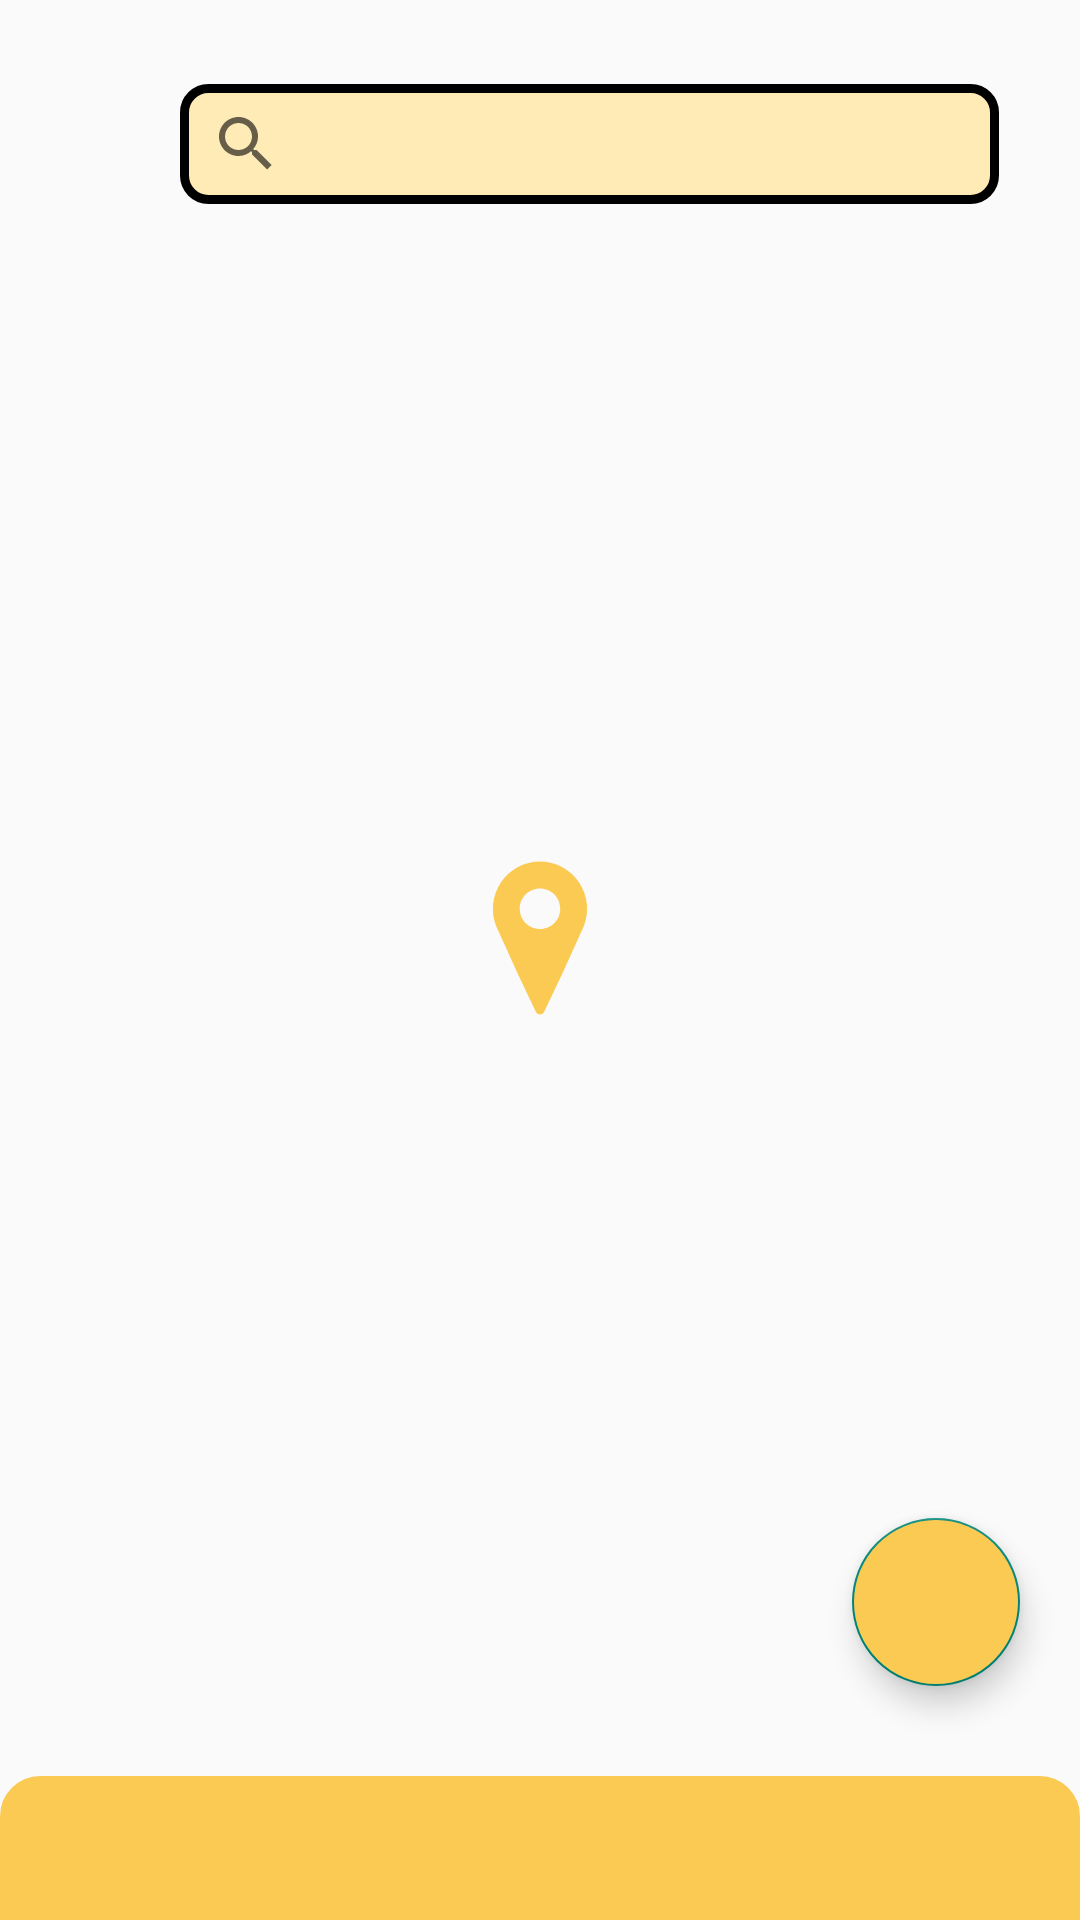

Screen size 1080 × 1920. Icon name, then its center in pixels as [x,y]:
location: [540,938]
